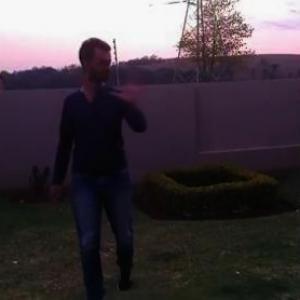follow_hand: (110, 66, 151, 102)
